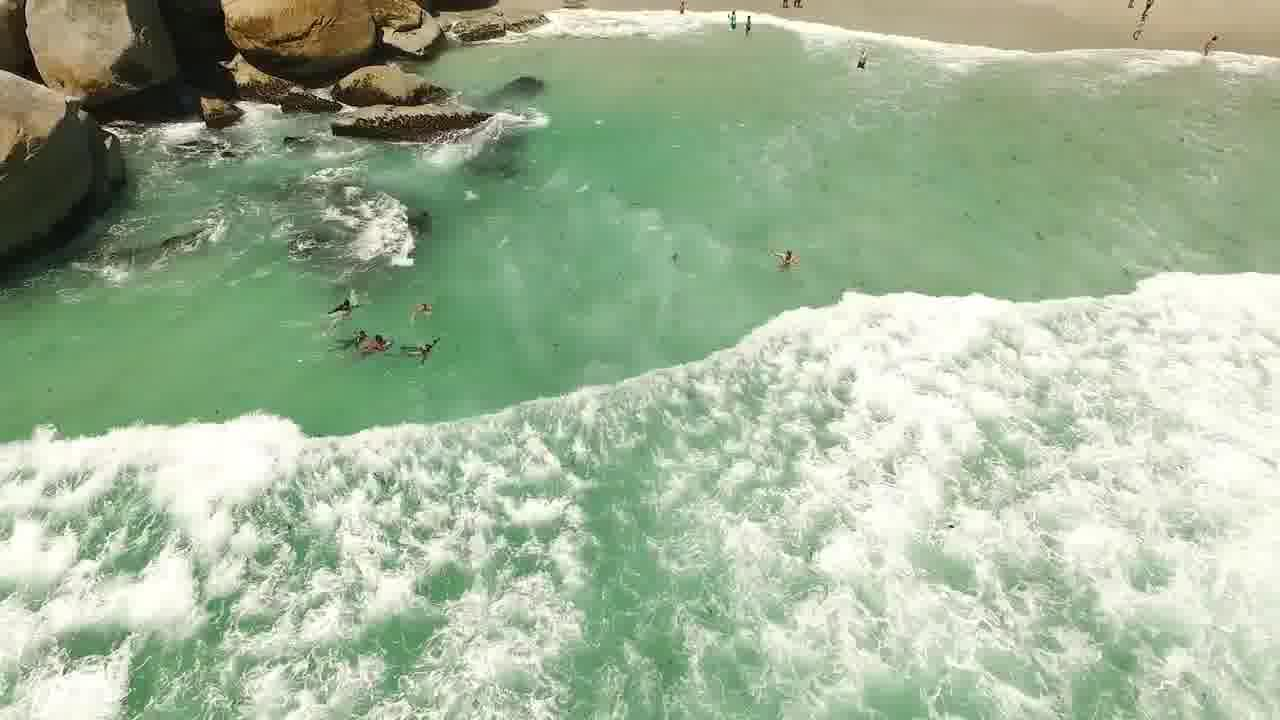human: (753, 234, 818, 292), (347, 324, 393, 357), (414, 323, 448, 367), (1197, 23, 1228, 69), (324, 285, 370, 312), (717, 7, 759, 36), (846, 49, 880, 82)
